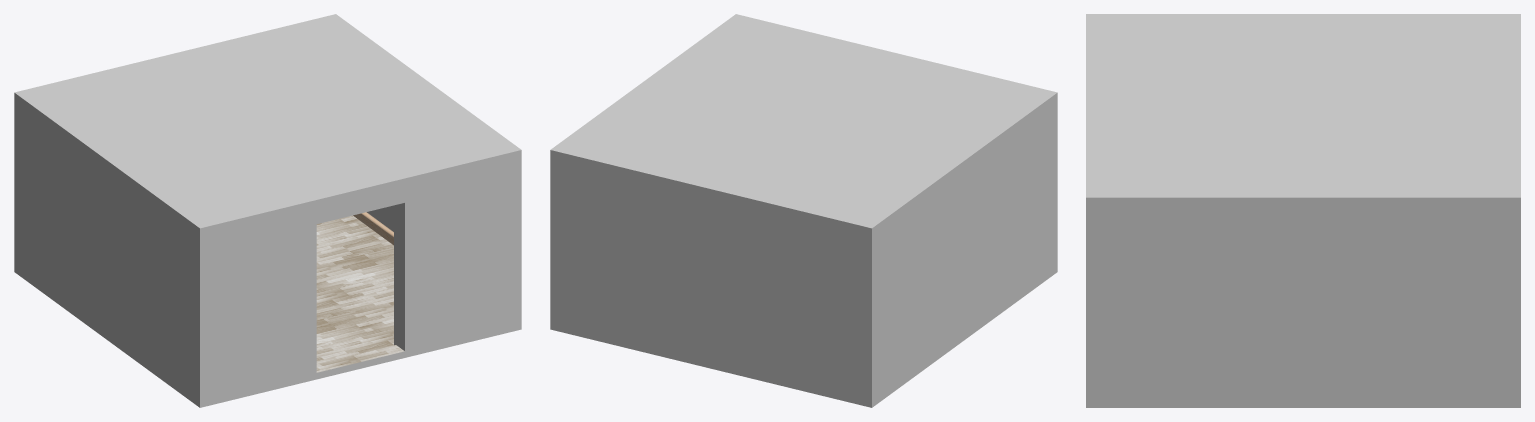
File: room.fbx
3 renders of one model, left to right at view 1: azimuth 30°, elevation 25°; view 2: azimuth 150°, elevation 25°; view 3: azimuth 270°, elevation 25°, orthographic. The views are drawn at different scales.
Parts seen in each view (by area): view 1: Cube; view 2: Cube; view 3: Cube.
Boxes of the visible parts, box(x1,y1,x2,y2) form: Cube: box(14, 14, 521, 407); Cube: box(550, 14, 1057, 407); Cube: box(1086, 14, 1520, 407).
Bounding box in the file's own units: 600 × 320 × 600.
